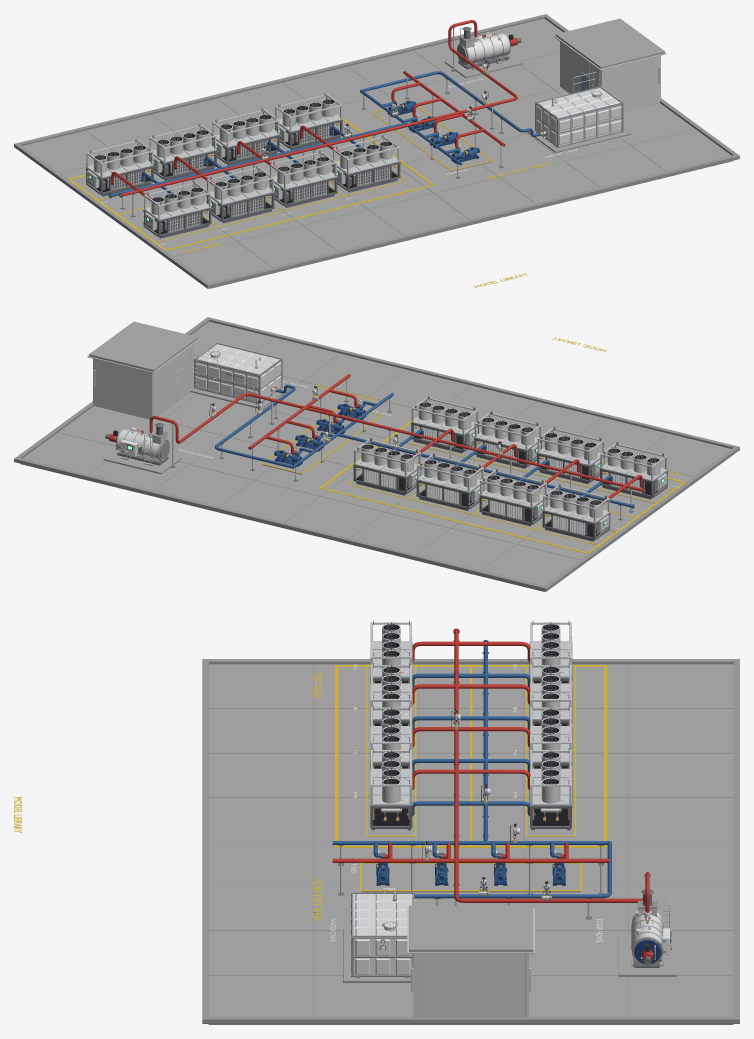
The model's file is IndustrialPlantRoom.glb.
3 renders of one model, top to bottom at view 1: azimuth 30°, elevation 25°; view 2: azimuth 150°, elevation 25°; view 3: azimuth 270°, elevation 25°, orthographic. The views are drawn at different scales.
Visible parts, largest first — view 1: FL_Slab, FL_KerbN, CR_Roof, FL_KerbS, CR_WallN, PP_RedMainAisle, ZN_PumpPl, FL_KerbW, CR_WallW1, BLR_Shell, PP_BluMainAisle, PP_BluToTank (+5 smaller); view 2: FL_Slab, FL_KerbS, CR_Roof, CR_WallS, FL_KerbN, PP_RedMainAisle, ZN_PumpPl, FL_KerbW, CR_WallW1, PP_BluMainAisle, PP_BluToTank, ZN_BoilPad (+6 smaller); view 3: FL_Slab, CR_WallE, CR_Roof, ZN_PumpPl, FL_KerbE, FL_KerbW, FL_KerbN, FL_KerbS, PP_RedMainAisle, PP_RedPumpHdr, ZN_BoilPad, PP_BluToTank (+16 smaller).
Part boxes in pixels (box(x1,y1,x2,y2)): FL_Slab: box(22, 18, 733, 288); FL_KerbN: box(207, 155, 738, 288); CR_Roof: box(555, 18, 664, 68); FL_KerbS: box(14, 15, 547, 145); CR_WallN: box(600, 55, 660, 111); PP_RedMainAisle: box(122, 20, 517, 196); ZN_PumpPl: box(373, 107, 490, 171); FL_KerbW: box(14, 143, 211, 288); CR_WallW1: box(561, 42, 581, 93); BLR_Shell: box(467, 33, 508, 64); PP_BluMainAisle: box(111, 122, 405, 196); PP_BluToTank: box(361, 71, 541, 136); FL_Slab: box(20, 321, 731, 591); FL_KerbS: box(14, 458, 547, 591); CR_Roof: box(89, 321, 198, 371); CR_WallS: box(93, 358, 153, 419); FL_KerbN: box(209, 317, 739, 450); PP_RedMainAisle: box(149, 393, 642, 491); ZN_PumpPl: box(263, 409, 380, 474); FL_KerbW: box(543, 446, 738, 591); CR_WallW1: box(153, 359, 173, 416); PP_BluMainAisle: box(337, 433, 631, 507); PP_BluToTank: box(215, 384, 295, 468); ZN_BoilPad: box(103, 449, 182, 474); FL_Slab: box(208, 664, 733, 1024); CR_WallE: box(416, 954, 525, 1017); CR_Roof: box(409, 905, 533, 952); ZN_PumpPl: box(362, 864, 580, 892); FL_KerbE: box(202, 1016, 739, 1023); FL_KerbW: box(202, 659, 739, 664); FL_KerbN: box(202, 659, 208, 1023); FL_KerbS: box(733, 659, 739, 1023); PP_RedMainAisle: box(454, 630, 649, 912); PP_RedPumpHdr: box(332, 858, 609, 862); ZN_BoilPad: box(618, 935, 676, 976); PP_BluToTank: box(414, 841, 611, 898).
Size of the model in its own units: 40.64 by 4.1 by 34.57.
